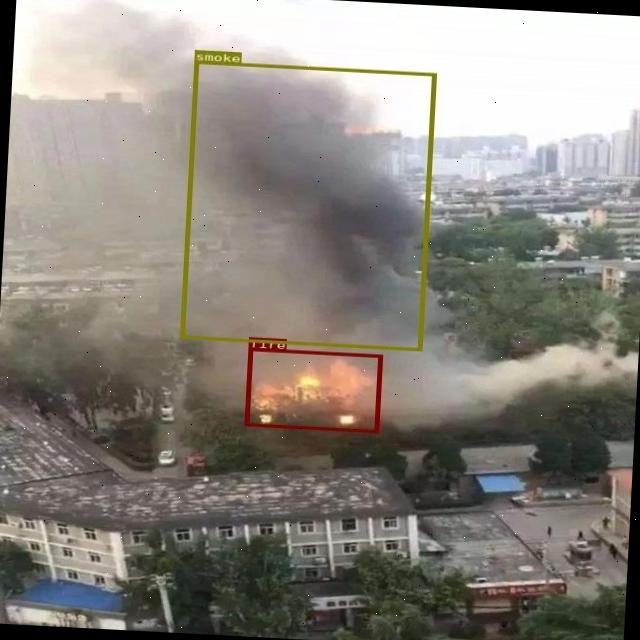fire: (244, 347, 382, 432)
smoke: (179, 60, 435, 350)
